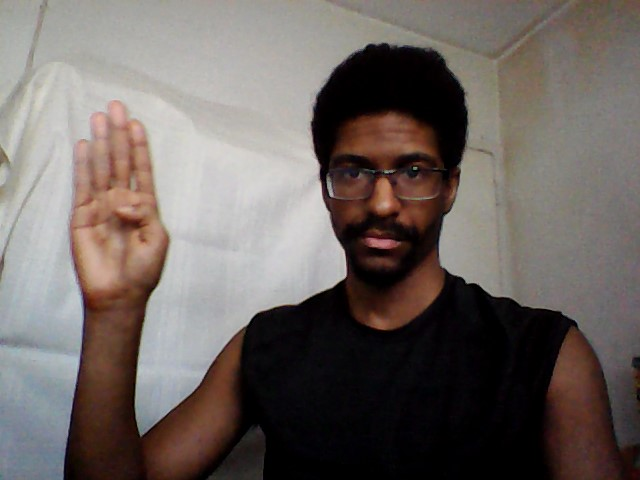b: (66, 94, 173, 307)
